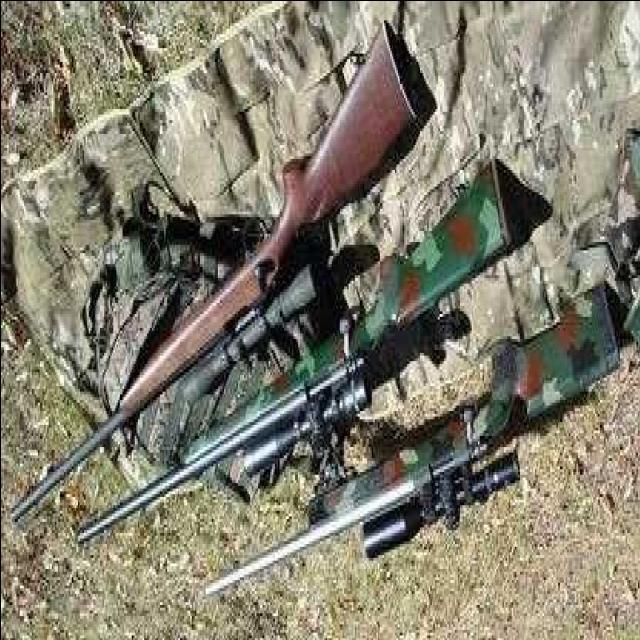heavyweapon: (9, 32, 418, 520), (76, 145, 518, 566), (203, 301, 632, 614)
